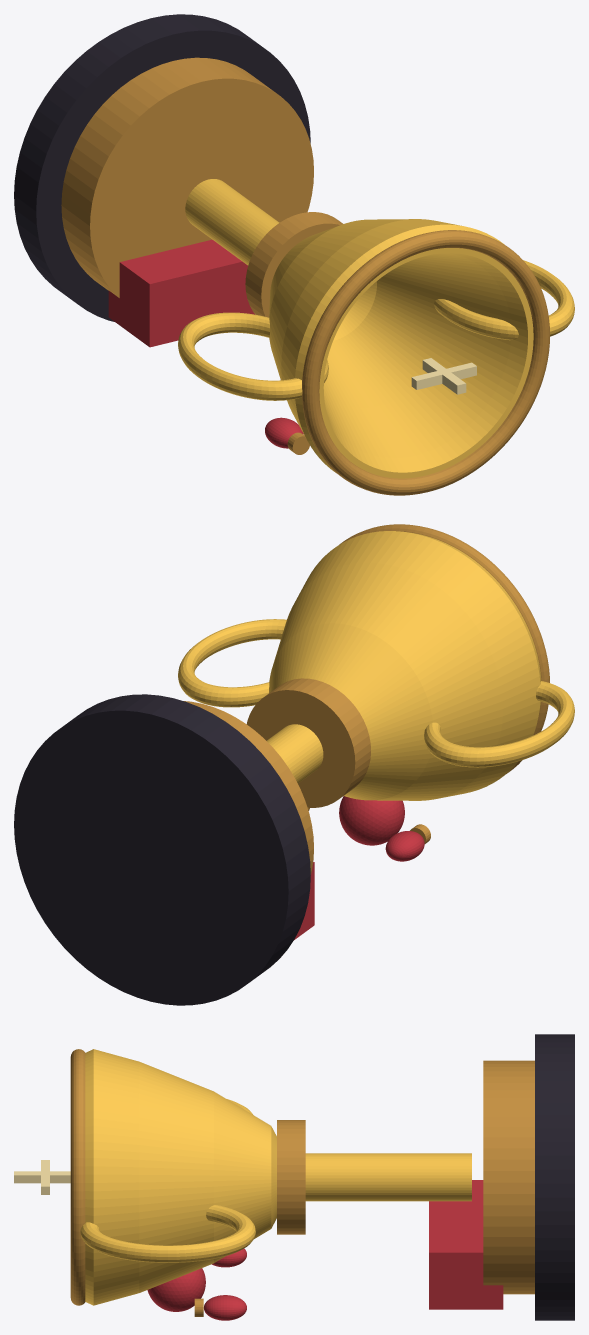
Rendered from trophy.glb.
3 views of the same model, one above another, from view 1: azimuth 30°, elevation 25°; view 2: azimuth 150°, elevation 25°; view 3: azimuth 270°, elevation 25° (orthographic). The views are drawn at different scales.
Parts seen in each view (by area): view 1: cup_bowl, base_gold_trim, base, rim, front_plaque, handle_-1, stem, collar, handle_1, sparkle_1.5707963267948966, lantern_-0.055, sparkle_0; view 2: base, cup_bowl, collar, handle_-1, handle_1, rim, front_jewel, base_gold_trim, stem, lantern_-0.055; view 3: cup_bowl, base_gold_trim, base, stem, front_plaque, handle_1, rim, collar, front_jewel, lantern_0.055, sparkle_0, lantern_-0.055.
Boxes of the visible parts, x1=… form: cup_bowl: x1=269, y1=219, x2=533, y2=478; base_gold_trim: x1=61, y1=57, x2=313, y2=297; base: x1=14, y1=14, x2=310, y2=321; rim: x1=302, y1=230, x2=549, y2=495; front_plaque: x1=108, y1=239, x2=254, y2=347; handle_-1: x1=178, y1=312, x2=328, y2=400; stem: x1=185, y1=179, x2=279, y2=265; collar: x1=245, y1=212, x2=342, y2=317; handle_1: x1=434, y1=260, x2=574, y2=340; sparkle_1.5707963267948966: x1=411, y1=362, x2=476, y2=389; lantern_-0.055: x1=265, y1=417, x2=303, y2=448; sparkle_0: x1=422, y1=358, x2=466, y2=394; base: x1=14, y1=694, x2=310, y2=1005; cup_bowl: x1=269, y1=531, x2=541, y2=800; collar: x1=246, y1=678, x2=370, y2=807; handle_-1: x1=424, y1=681, x2=574, y2=767; handle_1: x1=178, y1=619, x2=286, y2=707; rim: x1=339, y1=524, x2=549, y2=773; front_jewel: x1=339, y1=796, x2=404, y2=845; base_gold_trim: x1=184, y1=701, x2=313, y2=874; stem: x1=267, y1=724, x2=323, y2=783; lantern_-0.055: x1=385, y1=831, x2=424, y2=861; cup_bowl: x1=85, y1=1049, x2=276, y2=1305; base_gold_trim: x1=483, y1=1060, x2=534, y2=1294; base: x1=535, y1=1034, x2=574, y2=1320; stem: x1=305, y1=1153, x2=471, y2=1201; front_plaque: x1=429, y1=1180, x2=503, y2=1309; handle_1: x1=80, y1=1205, x2=255, y2=1262; rim: x1=70, y1=1049, x2=85, y2=1305; collar: x1=277, y1=1120, x2=305, y2=1234; front_jewel: x1=147, y1=1268, x2=205, y2=1311; lantern_0.055: x1=204, y1=1295, x2=246, y2=1320; sparkle_0: x1=14, y1=1171, x2=70, y2=1183; lantern_-0.055: x1=212, y1=1248, x2=246, y2=1267.
Size of the model in its own units: 0.3291 by 0.252 by 0.4895.
